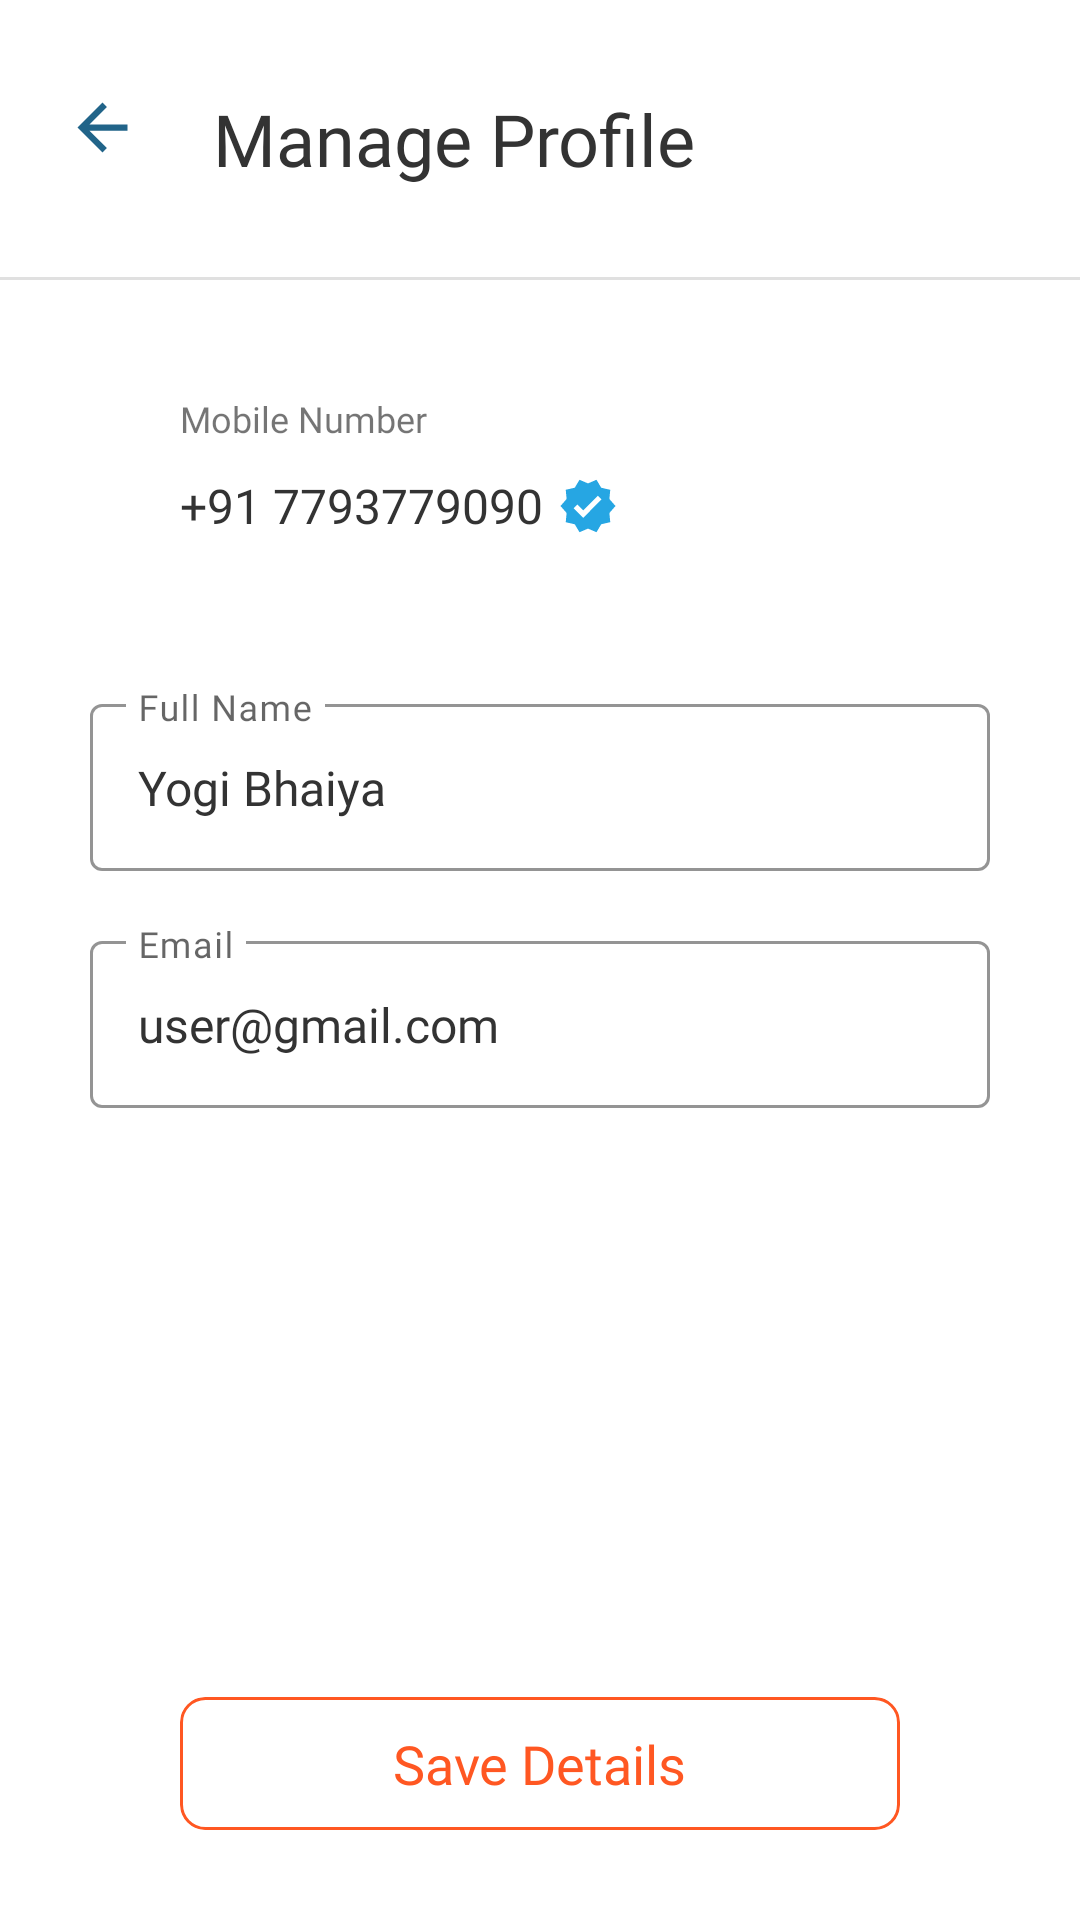

Point at icon controls on the screen. Image size 1080px×1920px, points as [x,y].
arrow back: [102,127]
verified: [588,506]
